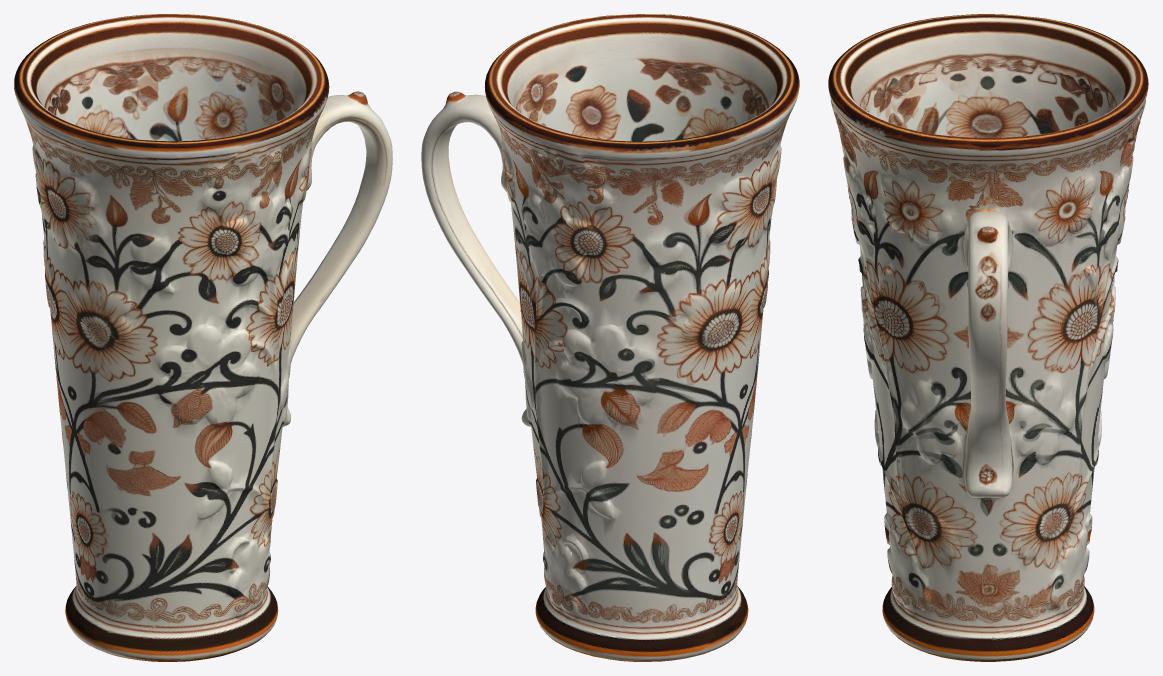
Rendered from cousin_2.glb.
3 views of the same model, side by side, from view 1: azimuth 30°, elevation 25°; view 2: azimuth 150°, elevation 25°; view 3: azimuth 270°, elevation 25° (orthographic).
Bounding box in the file's own units: 1.29 × 1.91 × 1.02.
Materials: 1 (1 with a texture image).
